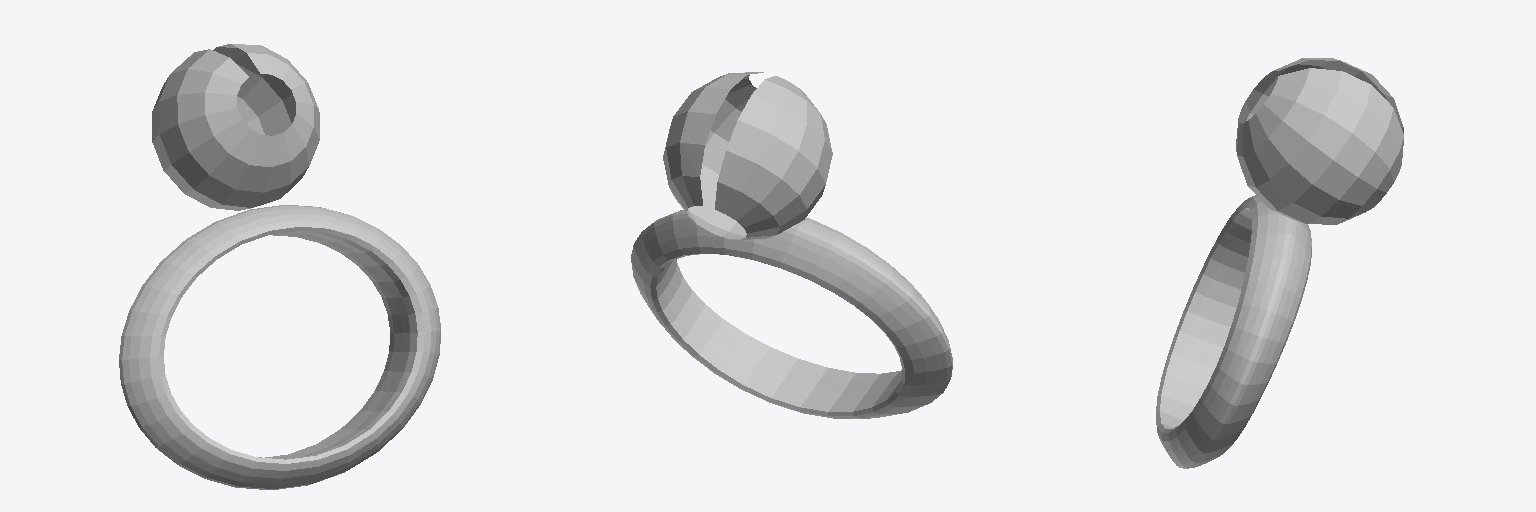
File: uninflatedcollar.obj
The picture shows the model from 3 angles: view 1: azimuth 30°, elevation 25°; view 2: azimuth 150°, elevation 25°; view 3: azimuth 270°, elevation 25°; orthographic projection.
Visible parts, largest first — view 1: UninflatedCollar; view 2: UninflatedCollar; view 3: UninflatedCollar.
Boxes of the visible parts, <box> form: UninflatedCollar: <box>119,44,440,489</box>; UninflatedCollar: <box>631,72,952,418</box>; UninflatedCollar: <box>1156,58,1403,468</box>.
Bounding box in the file's own units: 11.91 × 13.72 × 8.1.